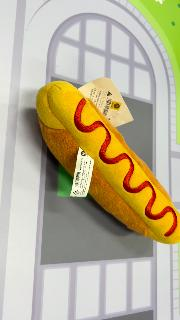hotdog: (36, 80, 180, 244)
